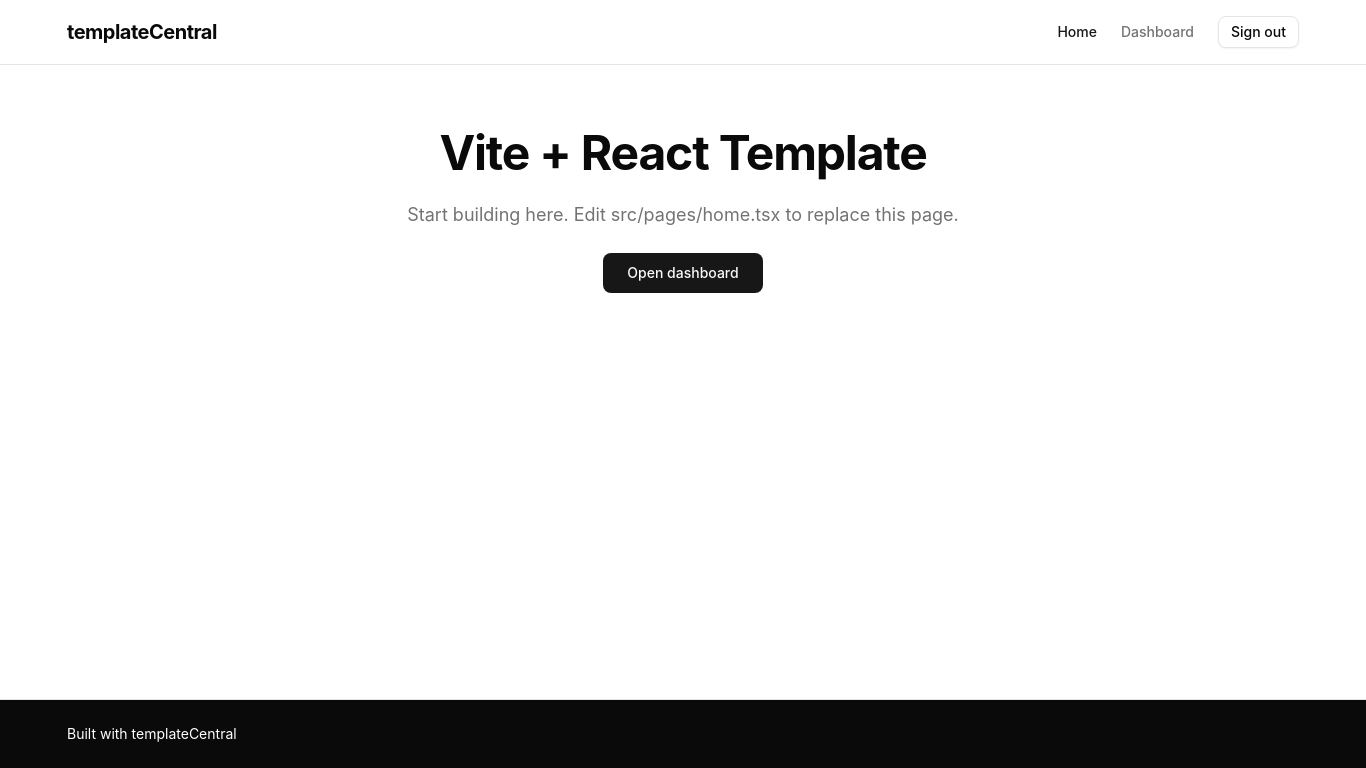
Scenario: App › walks home, dashboard, sign out, login and an unknown page
Later steps or results of the test are not shown.
Click the link "Dashboard".
click(1157, 32)  # box x1=1121 y1=22 x2=1194 y2=42
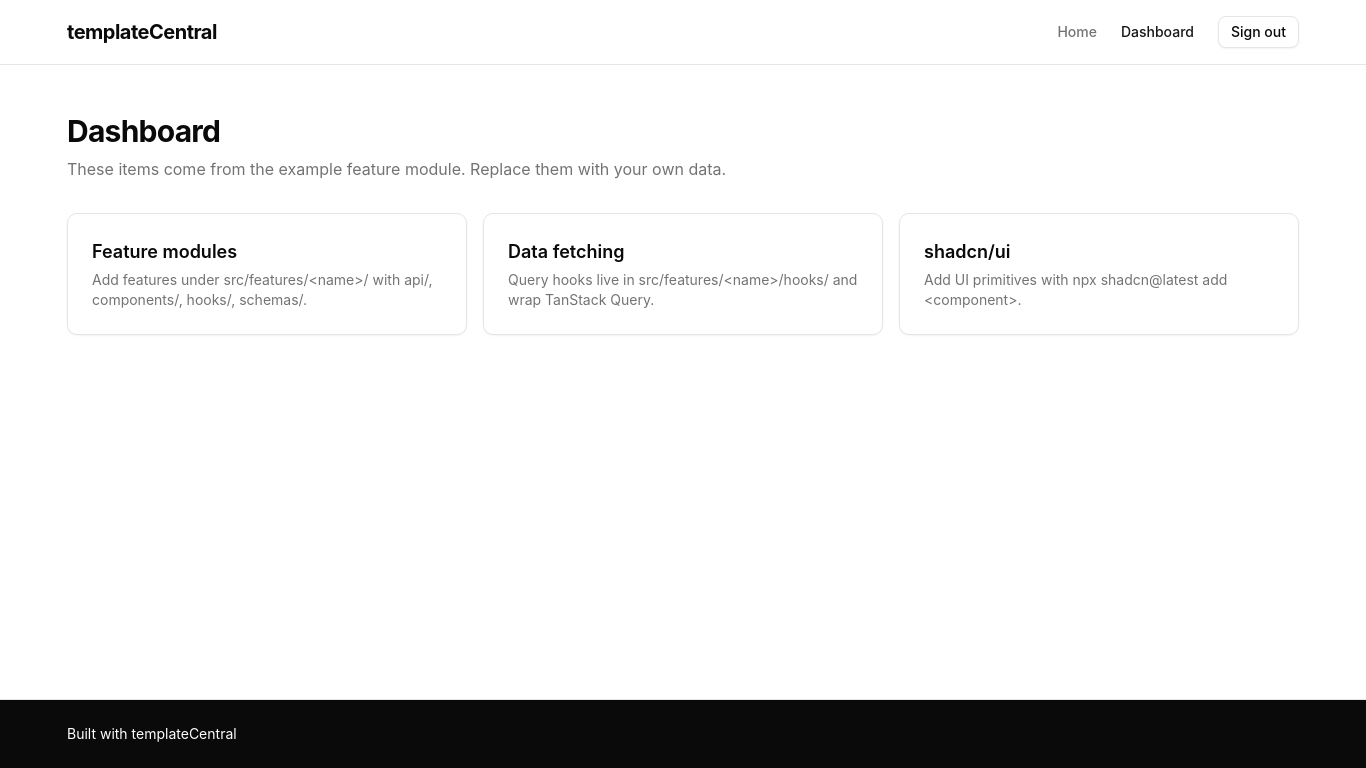
Check: the heading "Feature modules" is shown, box x1=92 y1=241 x2=237 y2=262
Click the button "Sign out".
click(1258, 32)  # box x1=1218 y1=16 x2=1299 y2=48
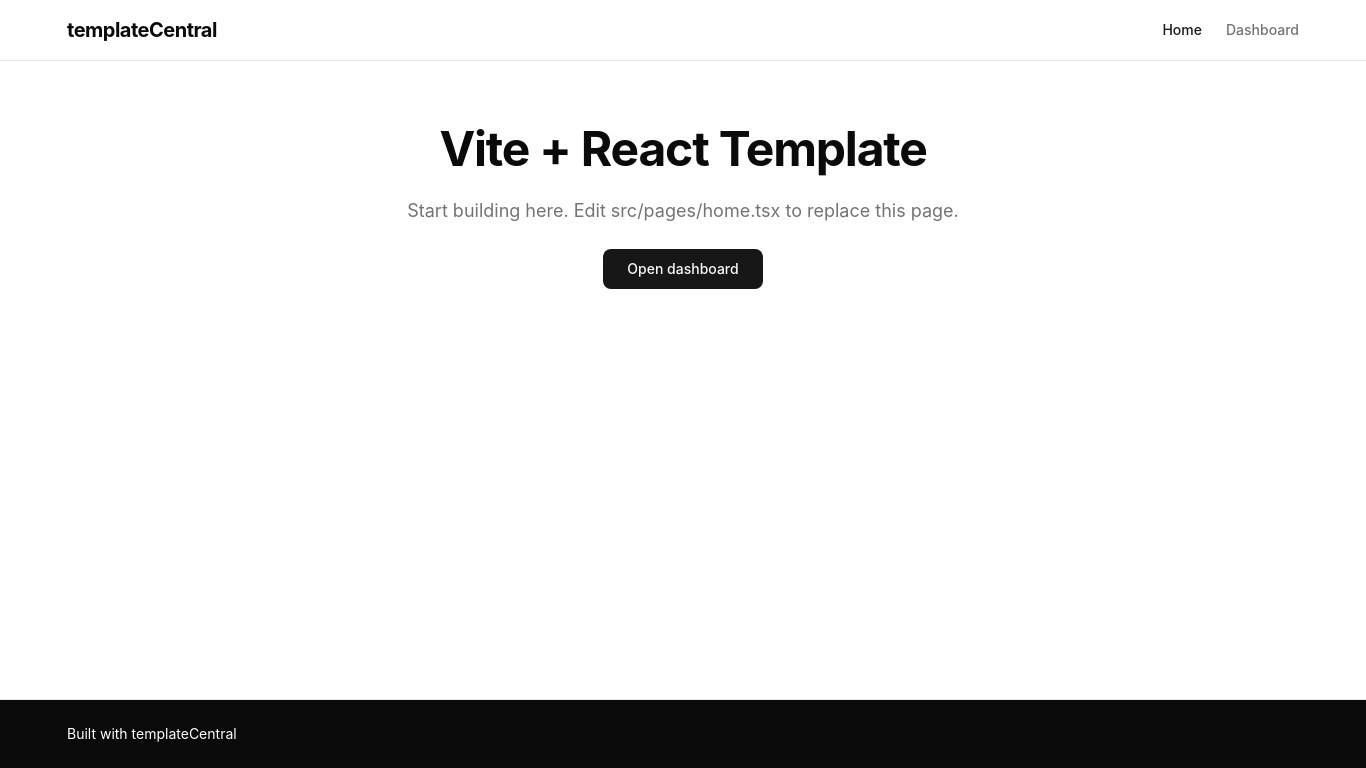
Check: the button "Sign out" is gone
Click the link "Dashboard".
click(1262, 30)  # box x1=1226 y1=20 x2=1299 y2=40
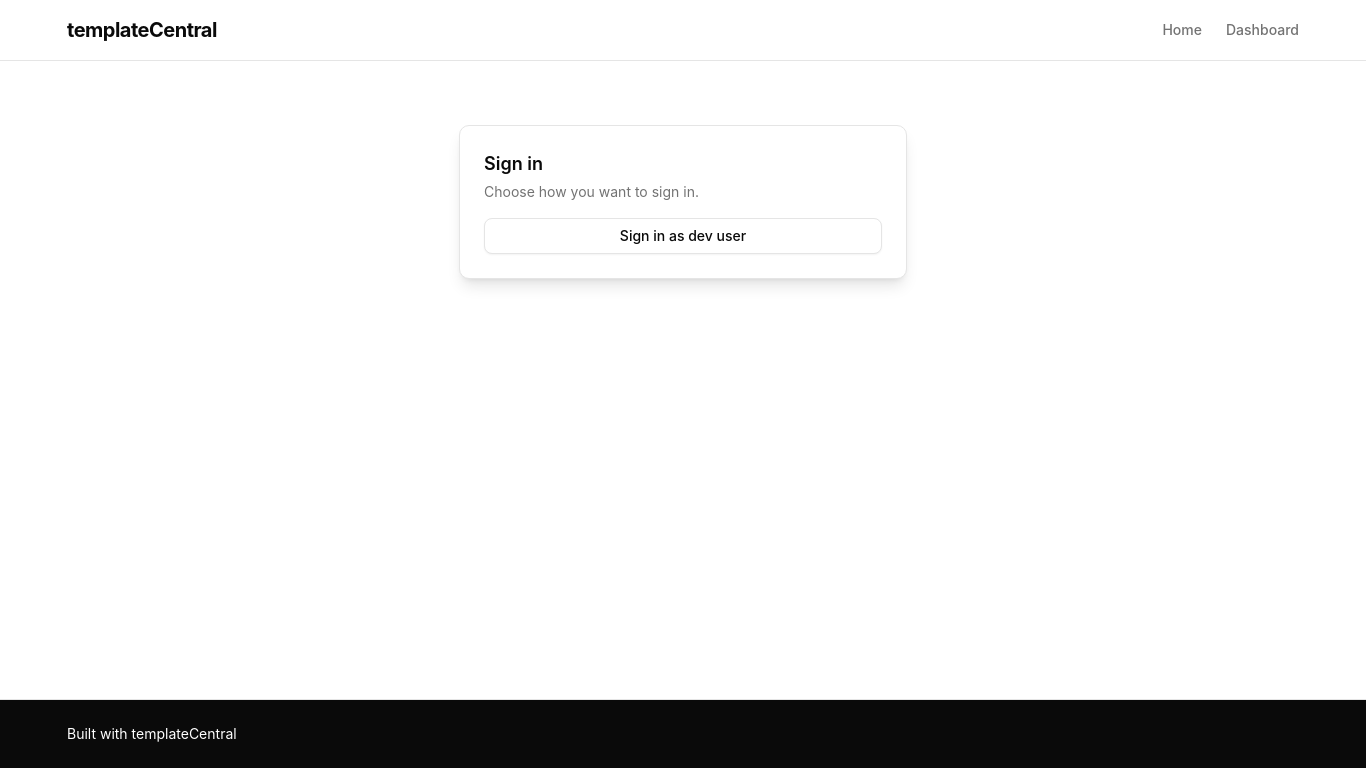
Click the button "Sign in as dev user".
click(683, 236)  # box x1=484 y1=218 x2=882 y2=254
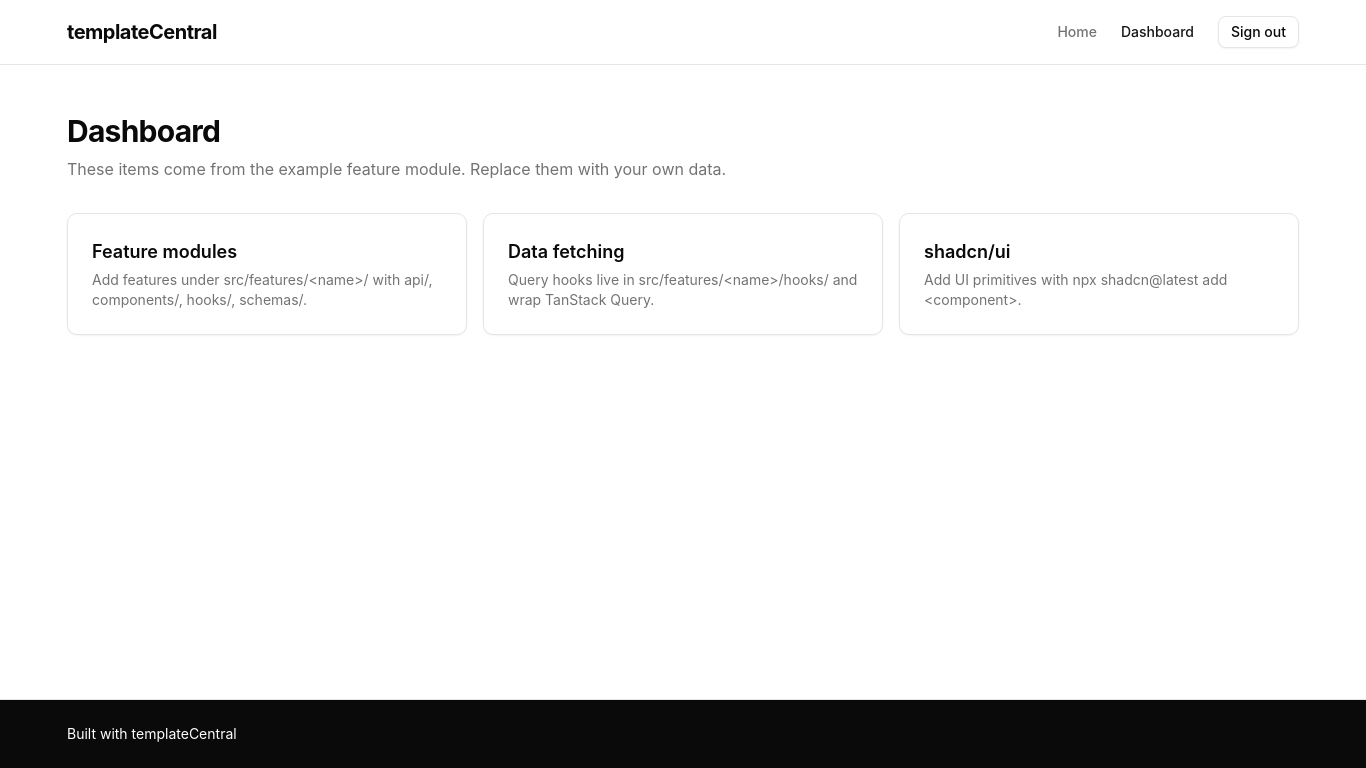
Check: the heading "Dashboard" is shown, box x1=67 y1=113 x2=220 y2=149
